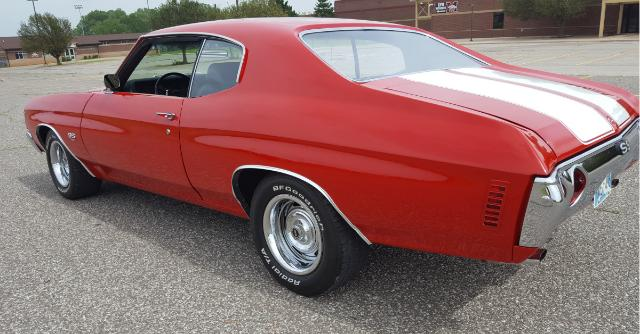chevelle-1972: (24, 17, 639, 296)
